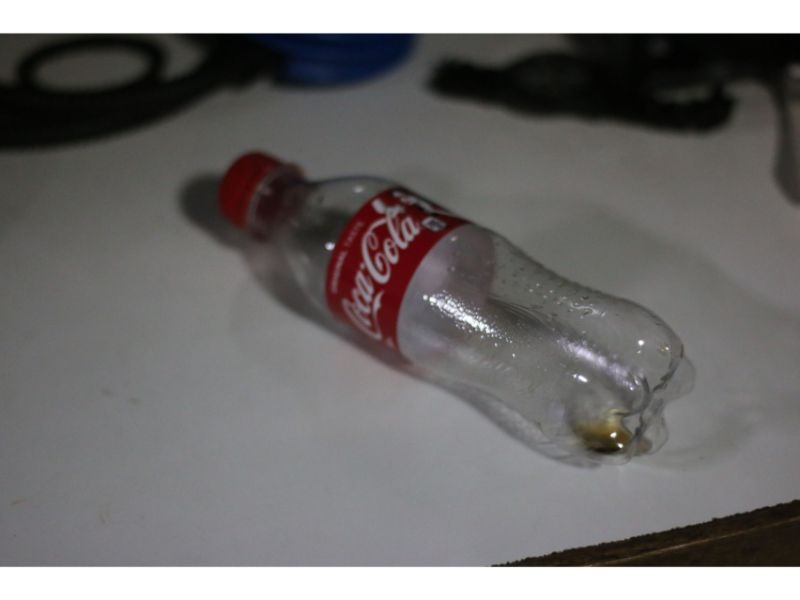PET #1: (208, 147, 691, 471)
